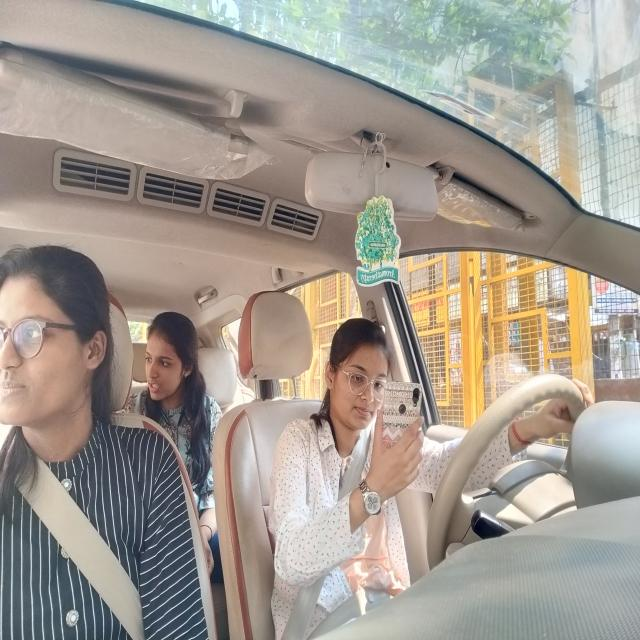mobile: (376, 368, 430, 479)
person: (2, 238, 122, 487), (320, 312, 393, 441), (136, 300, 207, 420)
